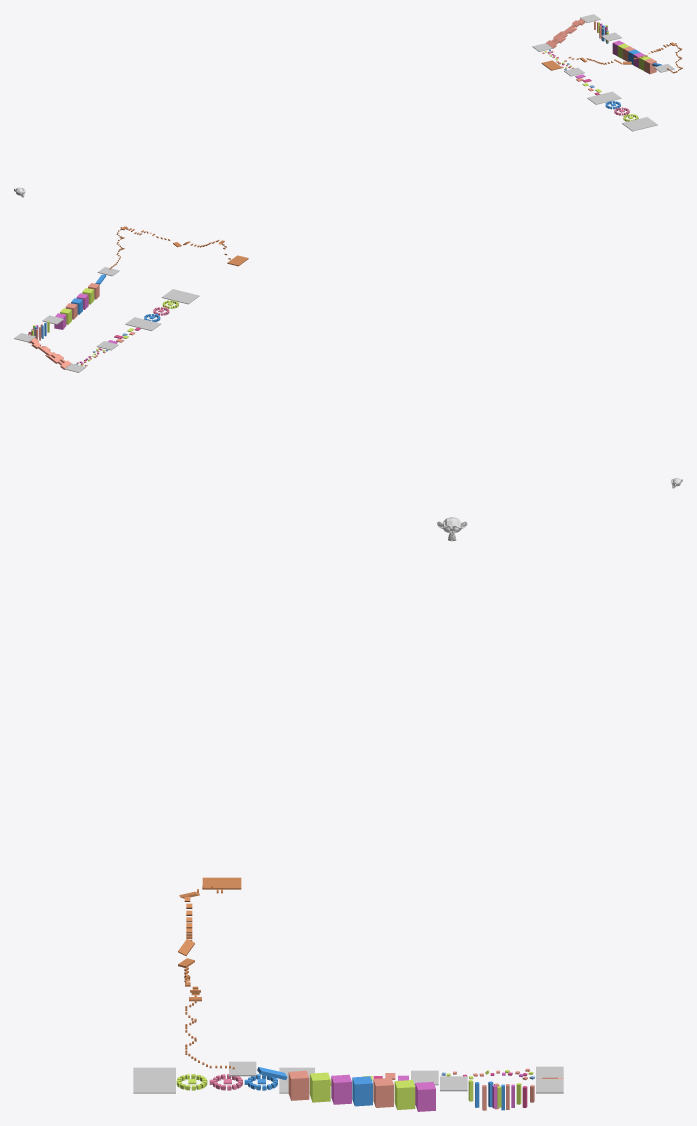
File: OBBY23 (3).glb
The picture shows the model from 3 angles, top to bottom: view 1: azimuth 30°, elevation 25°; view 2: azimuth 150°, elevation 25°; view 3: azimuth 270°, elevation 25°; orthographic projection. The views are drawn at different scales.
Parts seen in each view (by area): view 1: Cube.061, blockDirt.081; view 2: no part large enough to name; view 3: blockDirt.081.
Part boxes in pixels (left/top/right/bottom): Cube.061: left=546, top=18, right=585, bottom=48; blockDirt.081: left=622, top=117, right=657, bottom=131; blockDirt.081: left=133, top=1067, right=175, bottom=1093.
Bounding box in the file's own units: 3538 × 402 × 1088.
